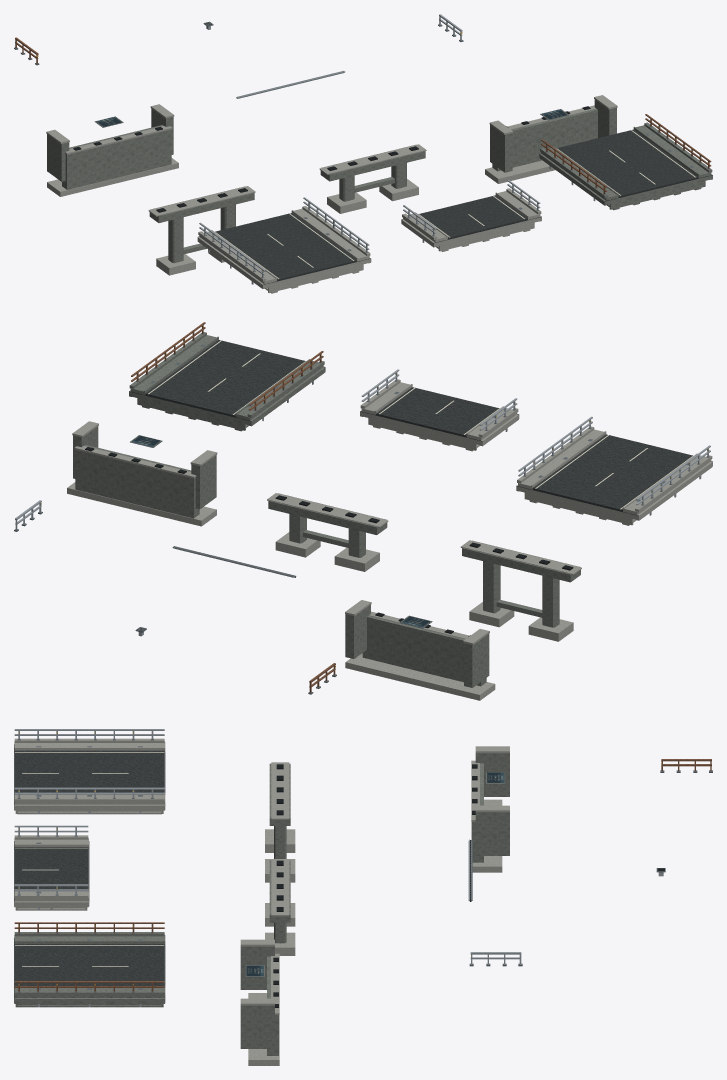
The model's file is PZ_Urban_Bridge_Inspection_Catalog.glb.
The picture shows the model from 3 angles, top to bottom: view 1: azimuth 30°, elevation 25°; view 2: azimuth 150°, elevation 25°; view 3: azimuth 270°, elevation 25°; orthographic projection. The views are drawn at different scales.
Parts seen in each view (by area): view 1: PZ_Bridge_Span_12m_Weathered_PAVEMENT_2LANE, PZ_Bridge_Span_12m_Clean_PAVEMENT_2LANE, PZ_Abutment_Far_BACKWALL, PZ_Abutment_Near_BACKWALL, PZ_Bridge_Span_06m_Clean_PAVEMENT_2LANE, PZ_Abutment_Far_SPREAD_FOOTING, PZ_Pier_TwinColumn_07m_PIER_HEADSTOCK, PZ_Pier_TwinColumn_05m_PIER_HEADSTOCK, PZ_Bridge_Span_12m_Clean_SLAB_11400mm, PZ_Abutment_Near_WEST_WING_WALL, PZ_Abutment_Near_SPREAD_FOOTING, PZ_Pier_TwinColumn_07m_CAP_COPING (+15 smaller); view 2: PZ_Bridge_Span_12m_Clean_PAVEMENT_2LANE, PZ_Bridge_Span_12m_Weathered_PAVEMENT_2LANE, PZ_Abutment_Near_BACKWALL, PZ_Abutment_Far_BACKWALL, PZ_Bridge_Span_06m_Clean_PAVEMENT_2LANE, PZ_Abutment_Far_SPREAD_FOOTING, PZ_Abutment_Near_SPREAD_FOOTING, PZ_Pier_TwinColumn_05m_PIER_HEADSTOCK, PZ_Pier_TwinColumn_07m_PIER_HEADSTOCK, PZ_Bridge_Span_12m_Weathered_SLAB_11400mm, PZ_Abutment_Far_WEST_WING_WALL, PZ_Bridge_Span_12m_Clean_SLAB_11400mm (+17 smaller); view 3: PZ_Bridge_Span_12m_Clean_PAVEMENT_2LANE, PZ_Bridge_Span_12m_Weathered_PAVEMENT_2LANE, PZ_Bridge_Span_06m_Clean_PAVEMENT_2LANE, PZ_Abutment_Far_EAST_WING_WALL, PZ_Abutment_Near_EAST_WING_WALL, PZ_Bridge_Span_12m_Clean_SLAB_11400mm, PZ_Bridge_Span_12m_Weathered_WEST_FOOTWAY, PZ_Bridge_Span_12m_Clean_WEST_FOOTWAY, PZ_Abutment_Near_WEST_WING_WALL, PZ_Bridge_Span_12m_Clean_EAST_FOOTWAY, PZ_Abutment_Far_WEST_WING_WALL, PZ_Bridge_Span_12m_Weathered_SLAB_11400mm (+13 smaller).
Boxes of the visible parts, bbox=[...] form: PZ_Bridge_Span_12m_Weathered_PAVEMENT_2LANE: bbox=[557, 129, 698, 197]; PZ_Bridge_Span_12m_Clean_PAVEMENT_2LANE: bbox=[215, 213, 356, 280]; PZ_Abutment_Far_BACKWALL: bbox=[62, 125, 171, 189]; PZ_Abutment_Near_BACKWALL: bbox=[492, 109, 597, 171]; PZ_Bridge_Span_06m_Clean_PAVEMENT_2LANE: bbox=[419, 195, 527, 239]; PZ_Abutment_Far_SPREAD_FOOTING: bbox=[47, 158, 178, 196]; PZ_Pier_TwinColumn_07m_PIER_HEADSTOCK: bbox=[149, 186, 254, 222]; PZ_Pier_TwinColumn_05m_PIER_HEADSTOCK: bbox=[320, 144, 425, 181]; PZ_Bridge_Span_12m_Clean_SLAB_11400mm: bbox=[197, 237, 371, 288]; PZ_Abutment_Near_WEST_WING_WALL: bbox=[490, 125, 512, 172]; PZ_Abutment_Near_SPREAD_FOOTING: bbox=[485, 160, 555, 183]; PZ_Pier_TwinColumn_07m_CAP_COPING: bbox=[148, 186, 255, 216]; PZ_Bridge_Span_12m_Clean_PAVEMENT_2LANE: bbox=[532, 434, 692, 511]; PZ_Bridge_Span_12m_Weathered_PAVEMENT_2LANE: bbox=[145, 340, 305, 416]; PZ_Abutment_Near_BACKWALL: bbox=[75, 445, 199, 518]; PZ_Abutment_Far_BACKWALL: bbox=[362, 615, 486, 686]; PZ_Bridge_Span_06m_Clean_PAVEMENT_2LANE: bbox=[376, 387, 499, 436]; PZ_Abutment_Far_SPREAD_FOOTING: bbox=[345, 653, 495, 700]; PZ_Abutment_Near_SPREAD_FOOTING: bbox=[67, 482, 216, 526]; PZ_Pier_TwinColumn_05m_PIER_HEADSTOCK: bbox=[268, 493, 387, 534]; PZ_Pier_TwinColumn_07m_PIER_HEADSTOCK: bbox=[462, 540, 580, 582]; PZ_Bridge_Span_12m_Weathered_SLAB_11400mm: bbox=[129, 367, 325, 425]; PZ_Abutment_Far_WEST_WING_WALL: bbox=[464, 634, 489, 687]; PZ_Bridge_Span_12m_Clean_SLAB_11400mm: bbox=[516, 461, 712, 520]; PZ_Bridge_Span_12m_Clean_PAVEMENT_2LANE: bbox=[14, 750, 164, 792]; PZ_Bridge_Span_12m_Weathered_PAVEMENT_2LANE: bbox=[14, 944, 164, 985]; PZ_Bridge_Span_06m_Clean_PAVEMENT_2LANE: bbox=[14, 847, 88, 889]; PZ_Abutment_Far_EAST_WING_WALL: bbox=[475, 812, 509, 855]; PZ_Abutment_Near_EAST_WING_WALL: bbox=[240, 1005, 274, 1048]; PZ_Bridge_Span_12m_Clean_SLAB_11400mm: bbox=[14, 752, 165, 810]; PZ_Bridge_Span_12m_Weathered_WEST_FOOTWAY: bbox=[14, 935, 165, 945]; PZ_Bridge_Span_12m_Clean_WEST_FOOTWAY: bbox=[14, 742, 165, 751]; PZ_Abutment_Near_WEST_WING_WALL: bbox=[240, 946, 274, 989]; PZ_Bridge_Span_12m_Clean_EAST_FOOTWAY: bbox=[14, 794, 165, 804]; PZ_Abutment_Far_WEST_WING_WALL: bbox=[475, 753, 509, 796]; PZ_Bridge_Span_12m_Weathered_SLAB_11400mm: bbox=[14, 946, 165, 1003].
Bounding box in the file's own units: 48.5 × 8.82 × 55.04.
10 materials, 10 textured.
